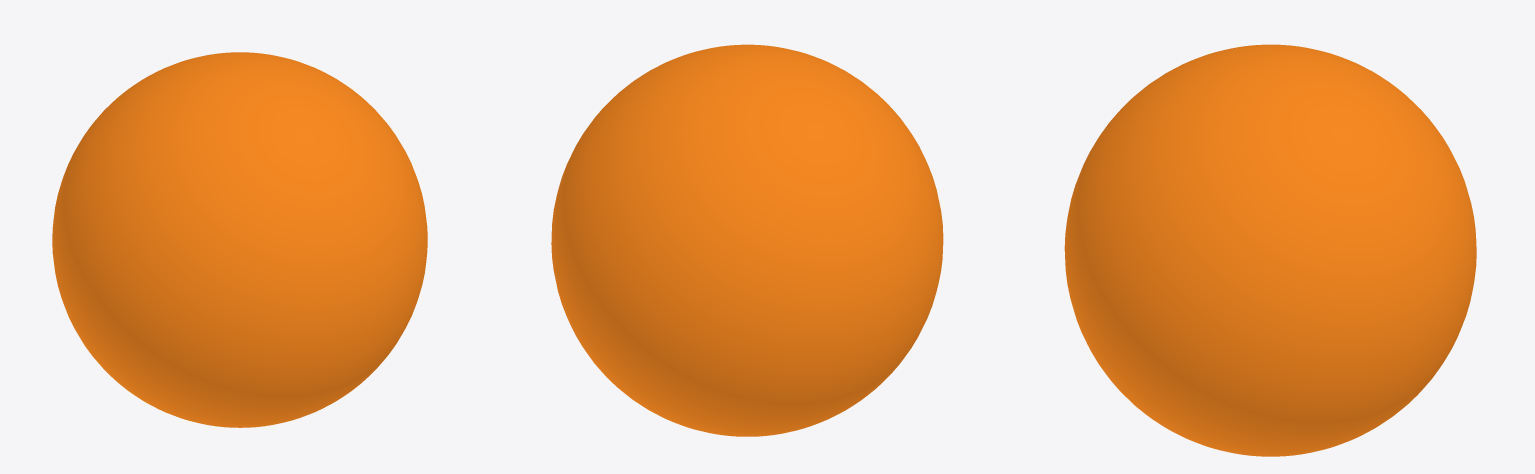
The model's file is Sun.glb.
The picture shows the model from 3 angles, left to right: view 1: azimuth 30°, elevation 25°; view 2: azimuth 150°, elevation 25°; view 3: azimuth 270°, elevation 25°; orthographic projection. The views are drawn at different scales.
Visible parts, largest first — view 1: Sol_Clouds_004.001; view 2: Sol_Clouds_004.001; view 3: Sol_Clouds_004.001.
Boxes of the visible parts, <box> form: Sol_Clouds_004.001: <box>52,52,427,427</box>; Sol_Clouds_004.001: <box>551,44,943,436</box>; Sol_Clouds_004.001: <box>1064,44,1476,456</box>.
Size of the model in its own units: 1.36 by 1.23 by 1.31.
3 materials, 3 textured.
